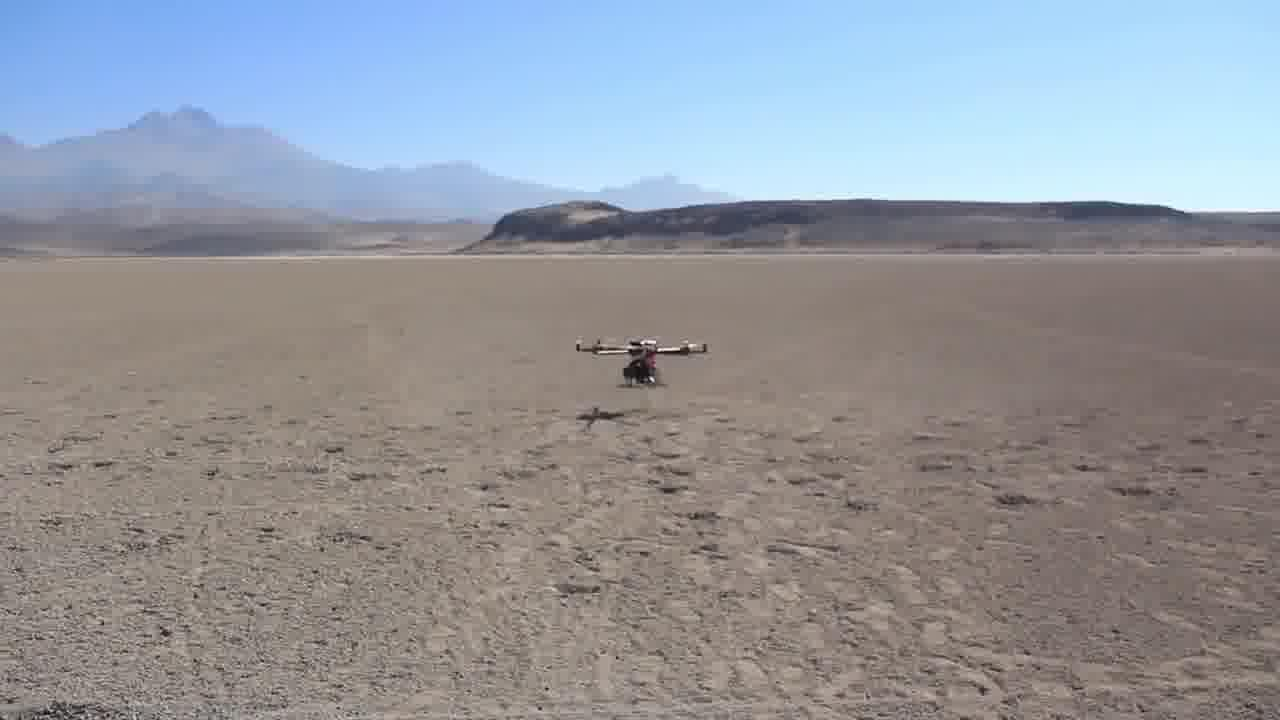drone: (562, 327, 712, 396)
